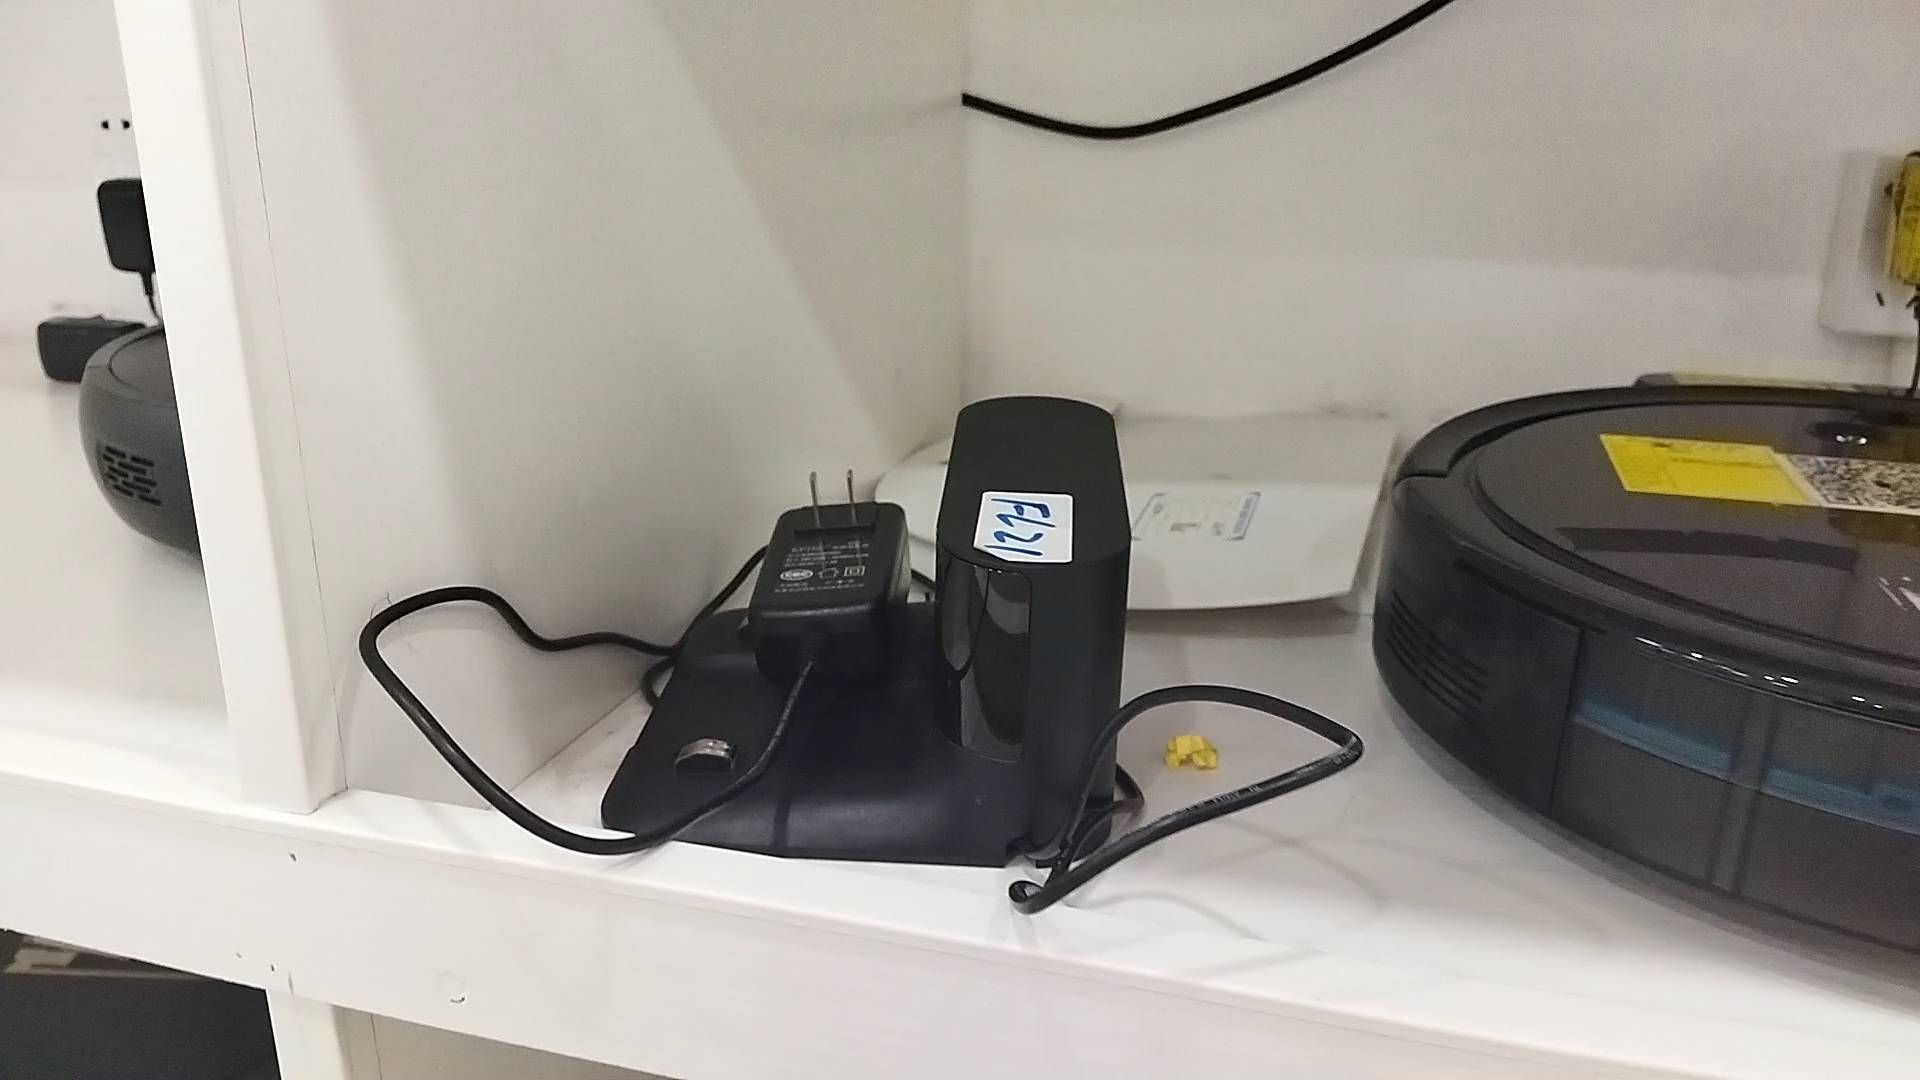recharge seat: (600, 393, 1137, 862)
